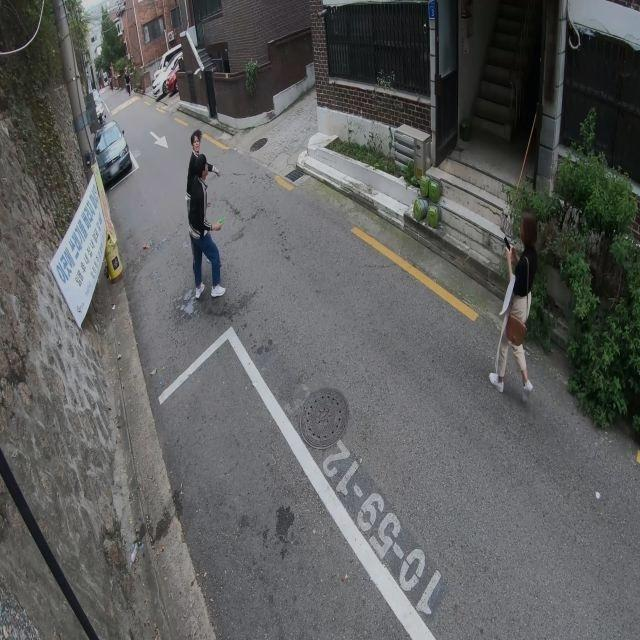fight: (184, 129, 224, 302)
non-fight: (490, 230, 534, 394)
